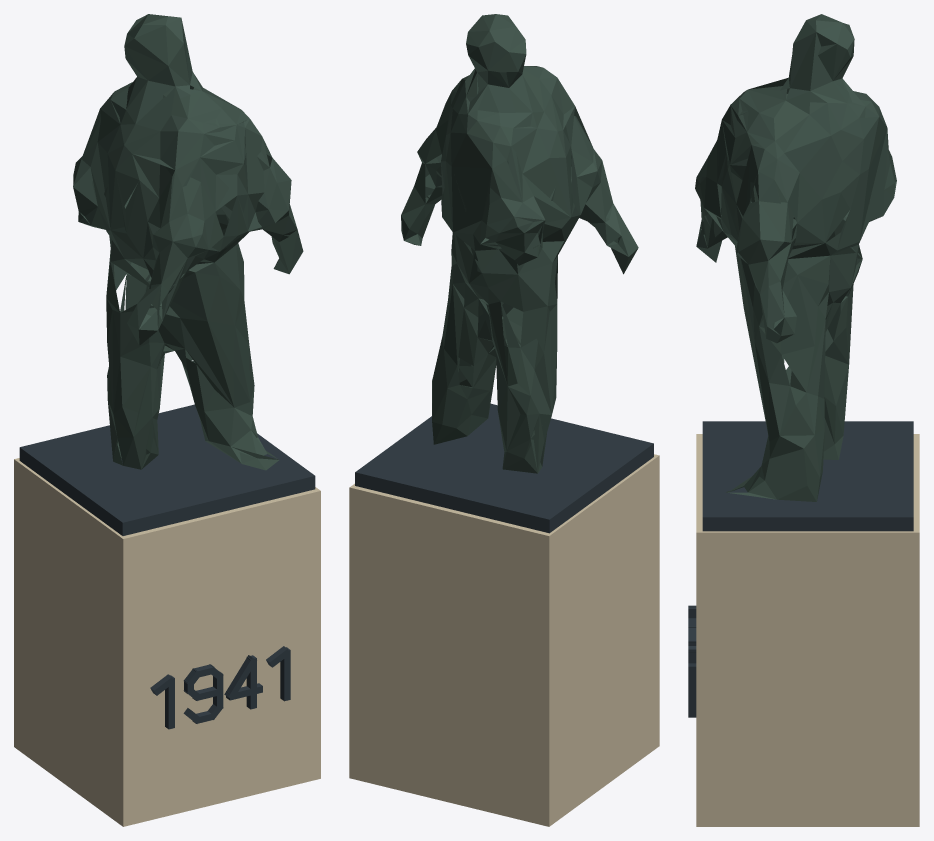
The model's file is de-dokwerker.lod1.glb.
3 renders of one model, left to right at view 1: azimuth 30°, elevation 25°; view 2: azimuth 150°, elevation 25°; view 3: azimuth 270°, elevation 25°, orthographic. The views are drawn at different scales.
Visible parts, largest first — view 1: de-dokwerker; view 2: de-dokwerker; view 3: de-dokwerker.
Boxes of the visible parts, x1,y1,x2,y2 form: de-dokwerker: (14,14,320,826); de-dokwerker: (349,14,659,826); de-dokwerker: (688,14,919,826).
Size of the model in its own units: 1.25 by 4.13 by 1.14.
